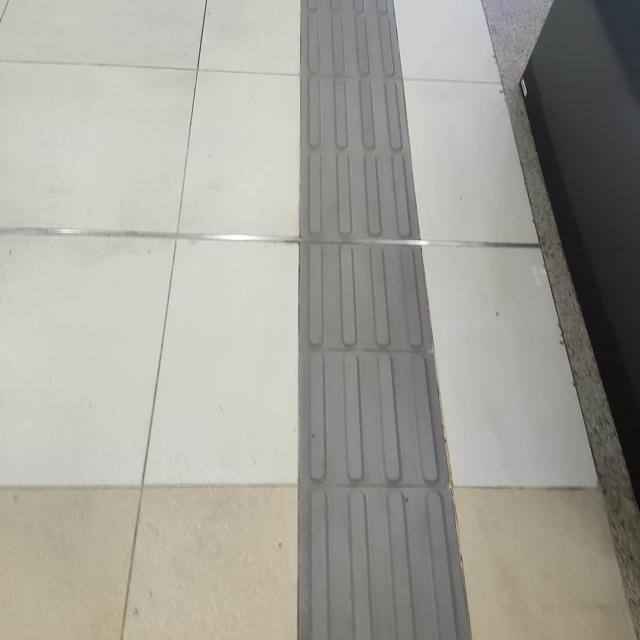lurus: (272, 0, 479, 640)
